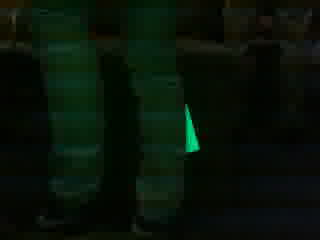target: (63, 100, 202, 155)
